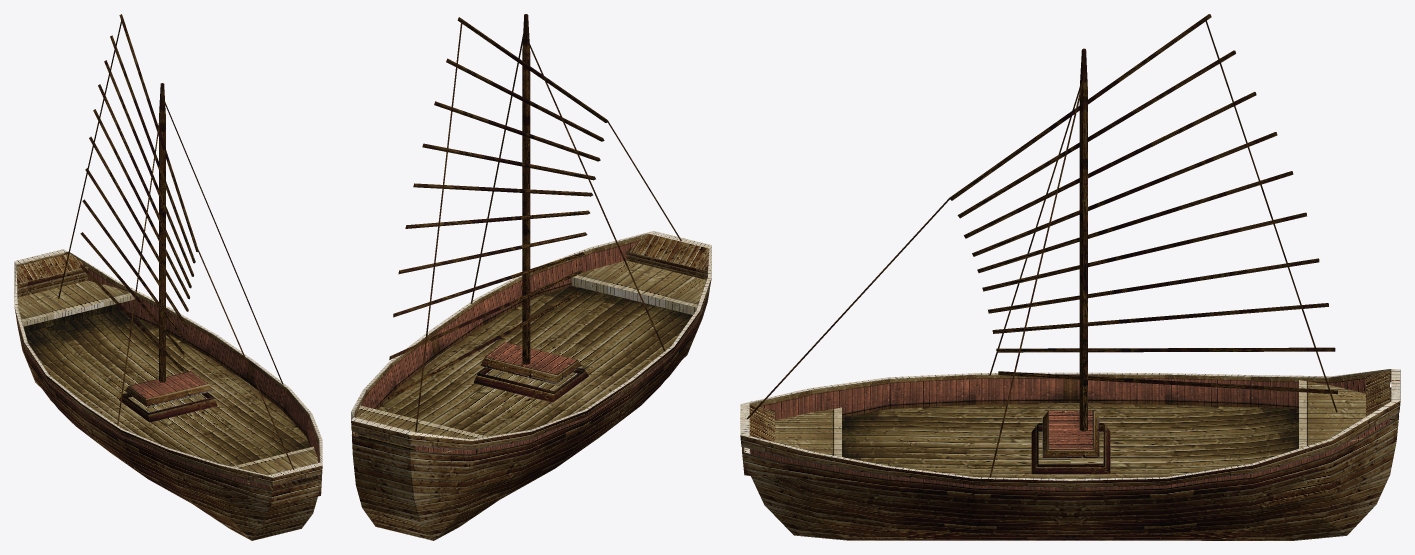
File: chin_merch.dae
3 views of the same model, side by side, from view 1: azimuth 30°, elevation 25°; view 2: azimuth 150°, elevation 25°; view 3: azimuth 270°, elevation 25° (orthographic). The views are drawn at different scales.
Visible parts, largest first — view 1: Han_Merchant_Ship; view 2: Han_Merchant_Ship; view 3: Han_Merchant_Ship.
Boxes of the visible parts, x1,y1,x2,y2 form: Han_Merchant_Ship: [14, 14, 322, 540]; Han_Merchant_Ship: [351, 14, 711, 540]; Han_Merchant_Ship: [740, 14, 1400, 540].
Size of the model in its own units: 7.64 by 16.99 by 19.7.
